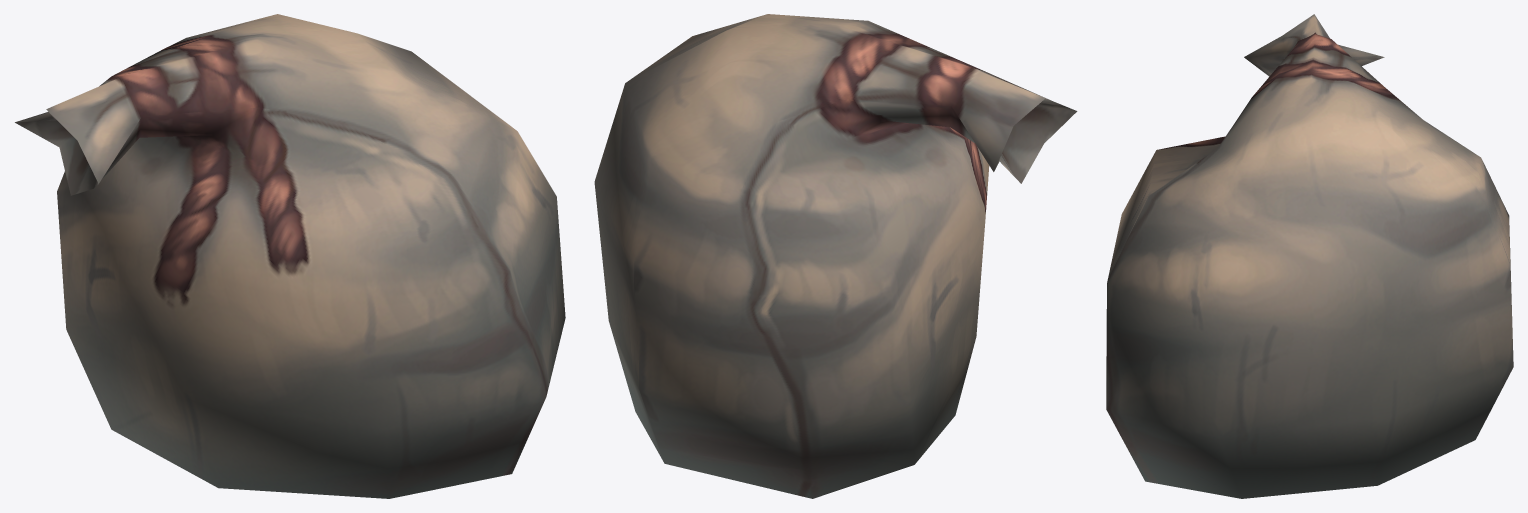
File: sack_of_sand_medium.fbx
The picture shows the model from 3 angles, left to right: view 1: azimuth 30°, elevation 25°; view 2: azimuth 150°, elevation 25°; view 3: azimuth 270°, elevation 25°; orthographic projection. The views are drawn at different scales.
Visible parts, largest first — view 1: sack_of_sand_medium; view 2: sack_of_sand_medium; view 3: sack_of_sand_medium.
Boxes of the visible parts, <box> form: sack_of_sand_medium: <box>15,14,565,498</box>; sack_of_sand_medium: <box>594,14,1077,498</box>; sack_of_sand_medium: <box>1106,14,1513,498</box>.
Bounding box in the file's own units: 72.03 × 61.77 × 65.55.
